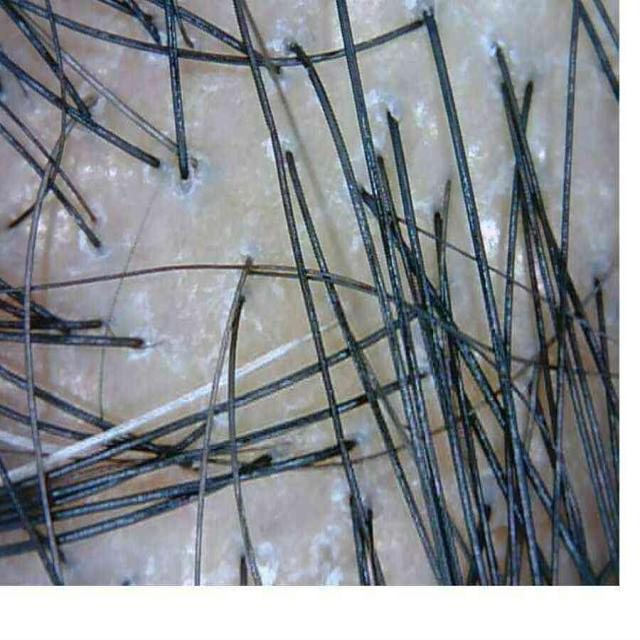ds: (310, 469, 359, 585), (365, 88, 398, 155), (124, 329, 169, 367), (480, 21, 508, 75), (265, 17, 300, 57), (170, 156, 200, 197), (74, 227, 108, 263), (179, 521, 195, 587), (256, 542, 279, 584), (480, 218, 501, 263), (51, 218, 76, 248), (466, 138, 486, 172), (414, 99, 435, 129), (279, 123, 298, 153), (90, 93, 106, 120), (531, 142, 546, 167), (402, 0, 422, 18), (261, 137, 274, 164), (138, 163, 151, 185), (104, 166, 119, 180), (160, 31, 166, 44)
